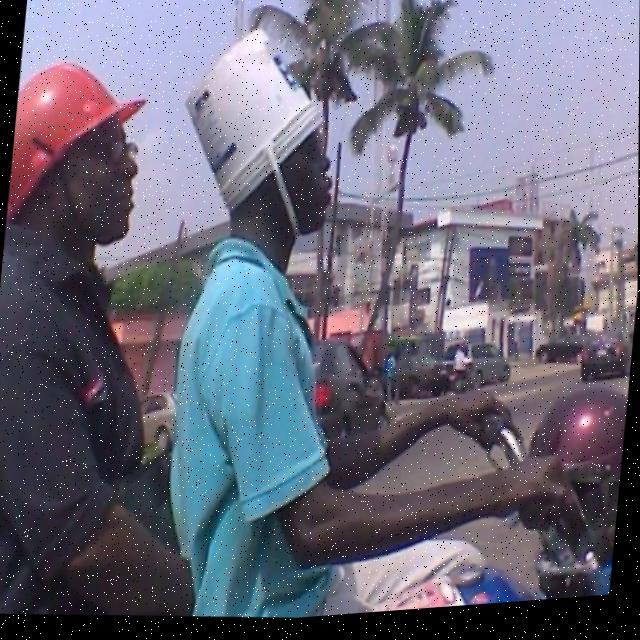illegal_helmet: (167, 11, 358, 258), (3, 48, 160, 261)
